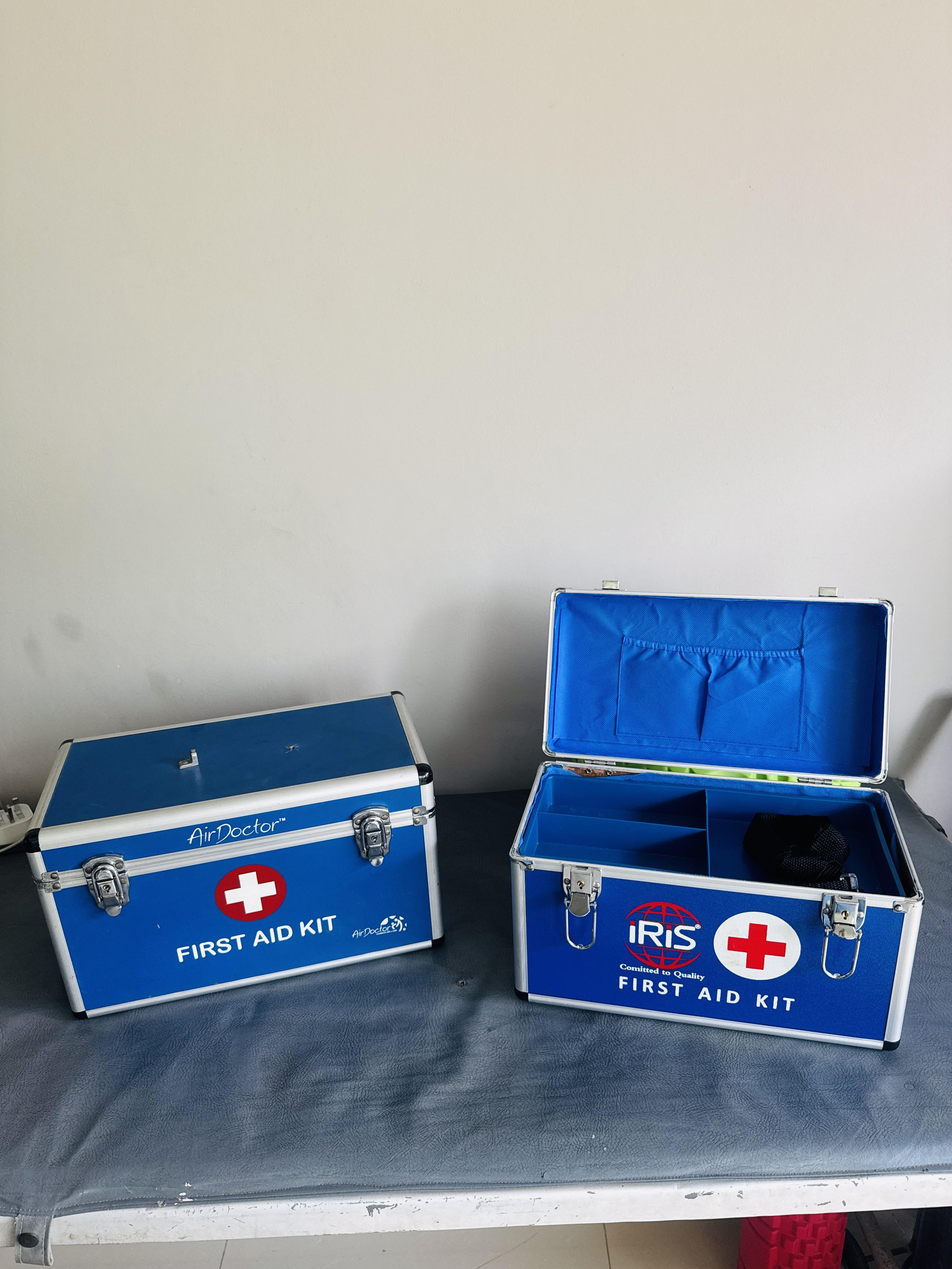FirstAidBox: (496, 546, 929, 1066), (3, 679, 458, 1034)
